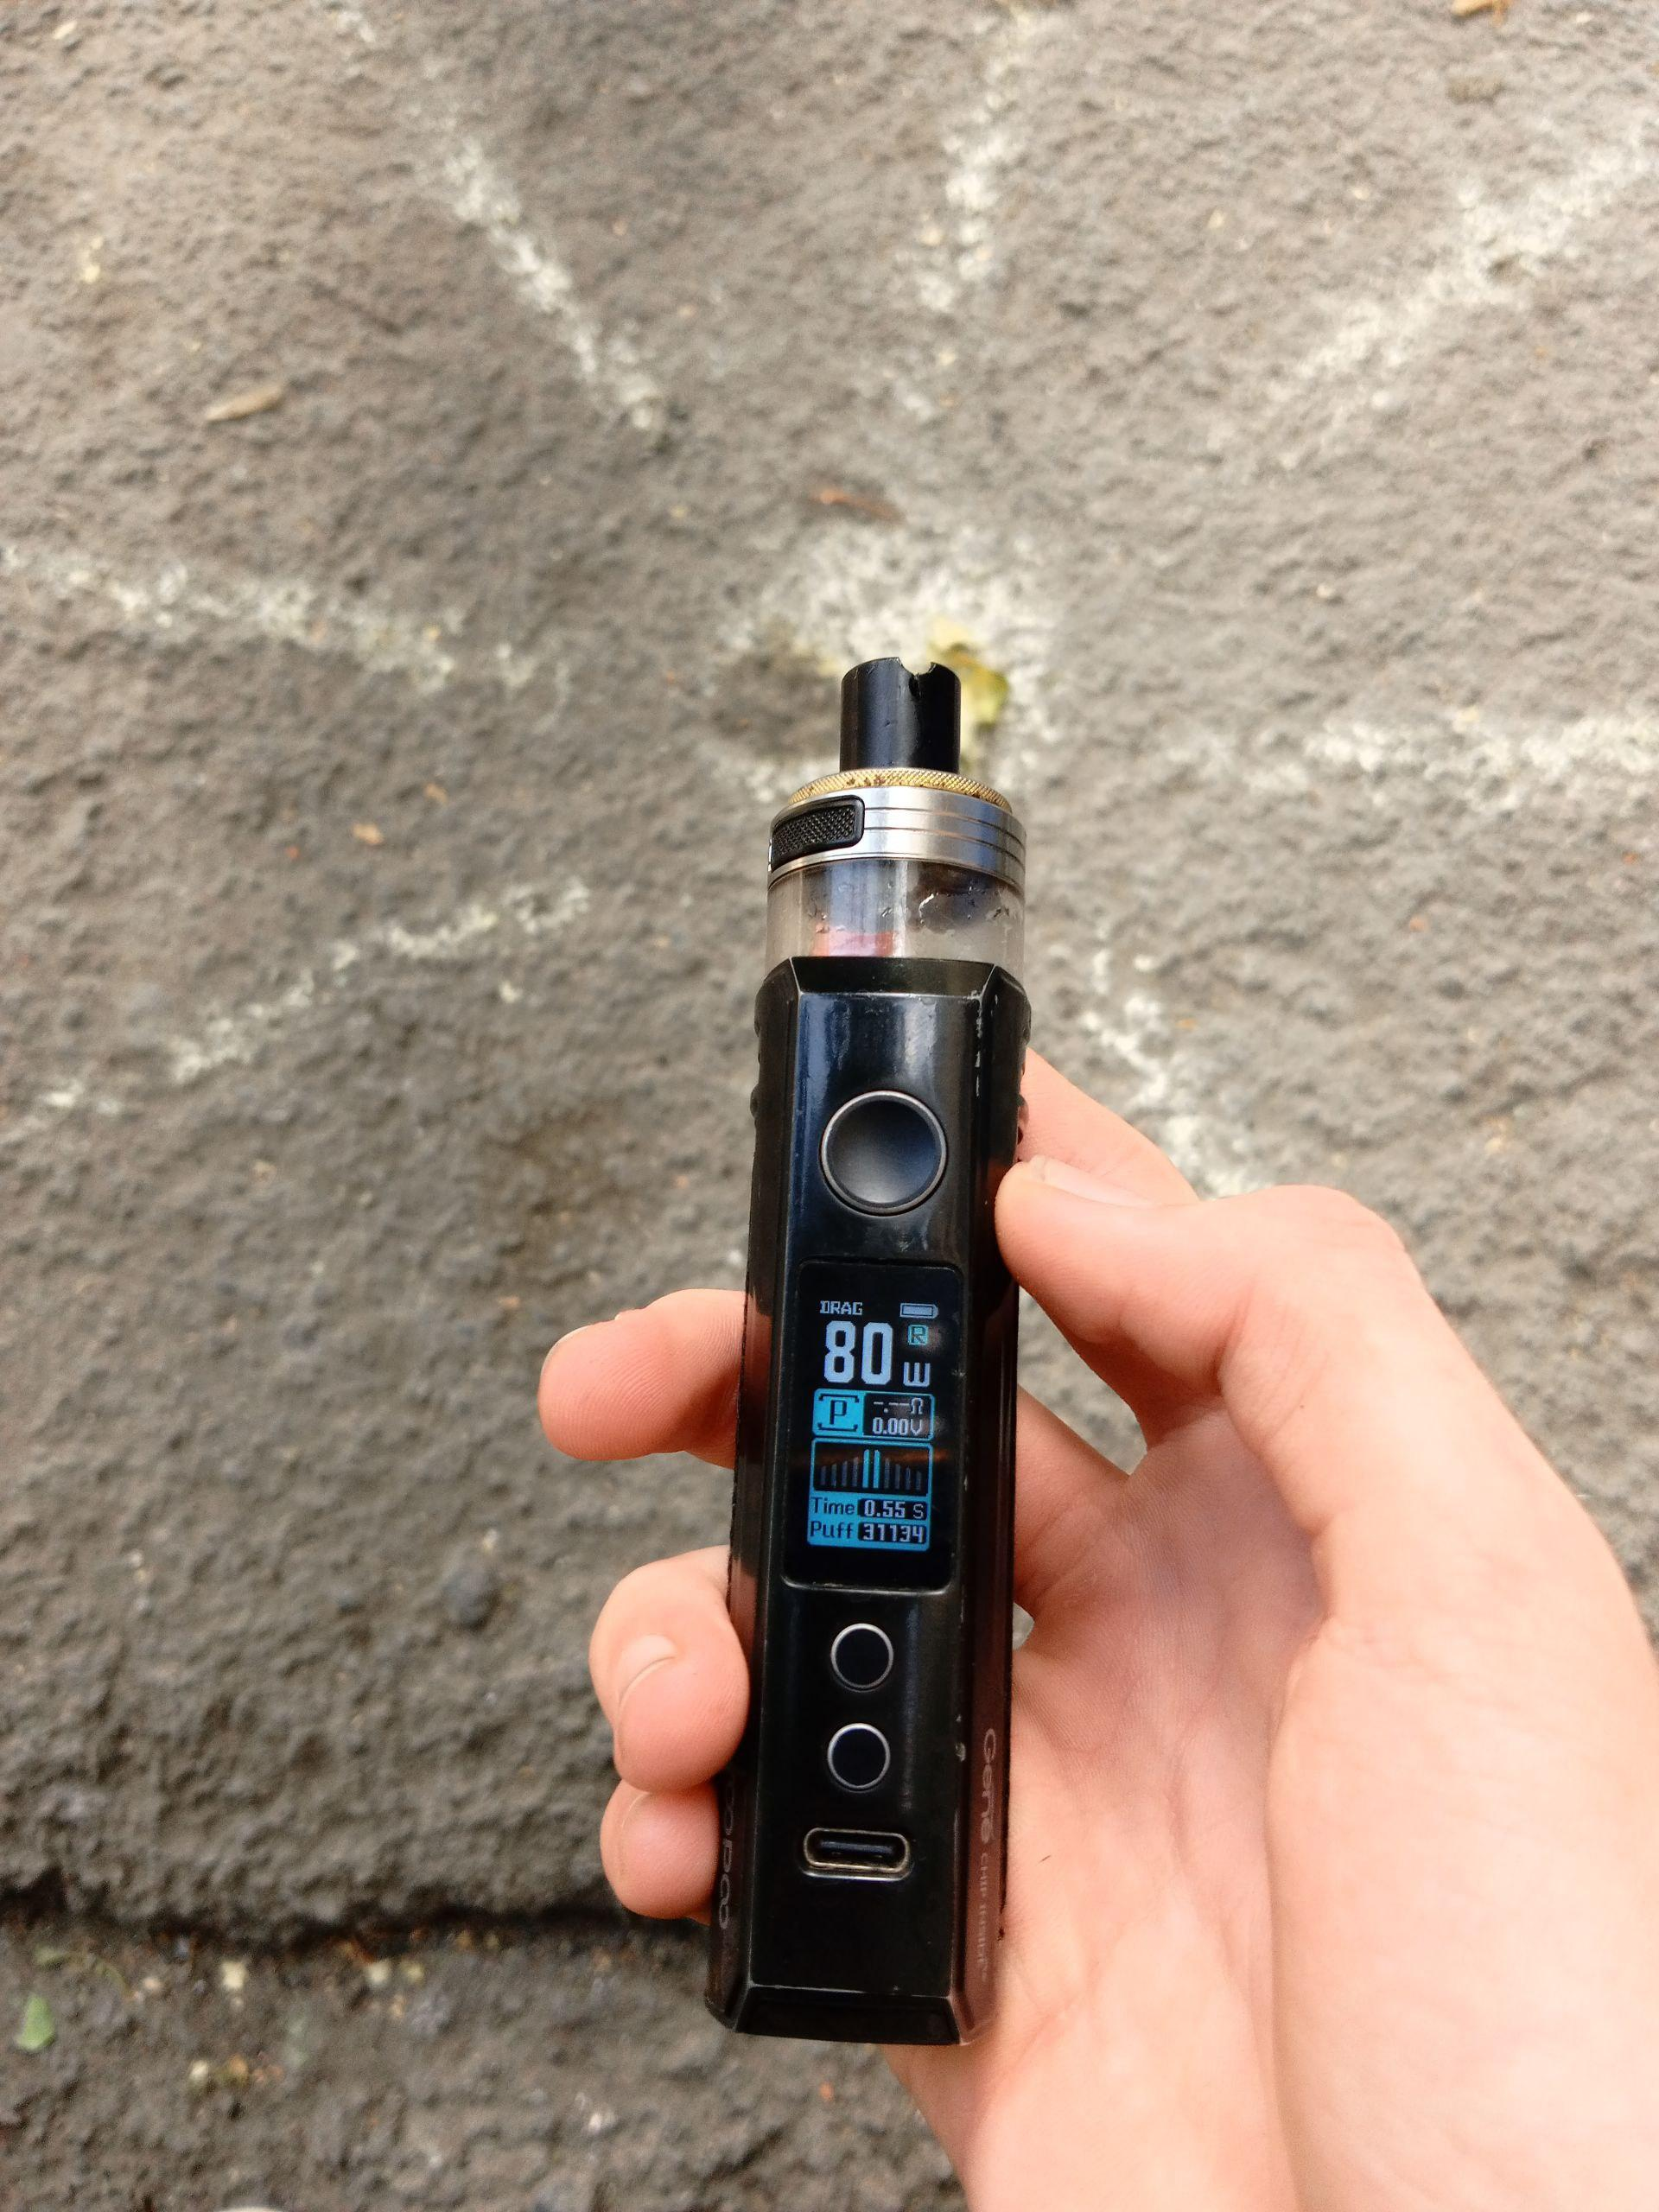Vape: (709, 660, 1030, 2043)
